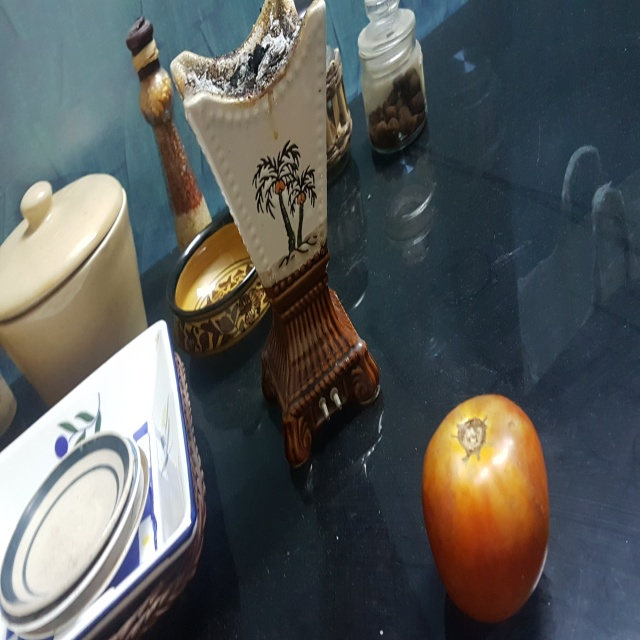tomato: (417, 392, 553, 621)
